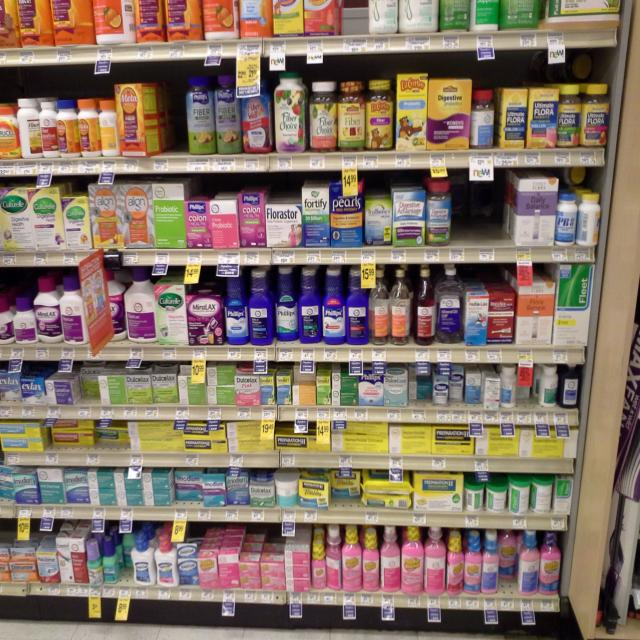unorganised: (114, 80, 163, 158), (49, 419, 130, 451), (364, 477, 413, 512), (471, 88, 497, 149), (576, 191, 601, 249), (499, 531, 520, 590), (328, 470, 363, 505), (98, 99, 117, 160), (446, 532, 464, 596), (324, 526, 341, 593), (451, 371, 479, 405), (174, 470, 202, 504), (407, 371, 433, 407), (78, 372, 101, 402), (206, 366, 237, 388), (121, 536, 132, 576), (519, 383, 532, 405)
